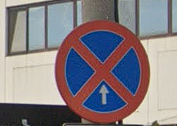oprirea_interzisa: (53, 19, 151, 125)
